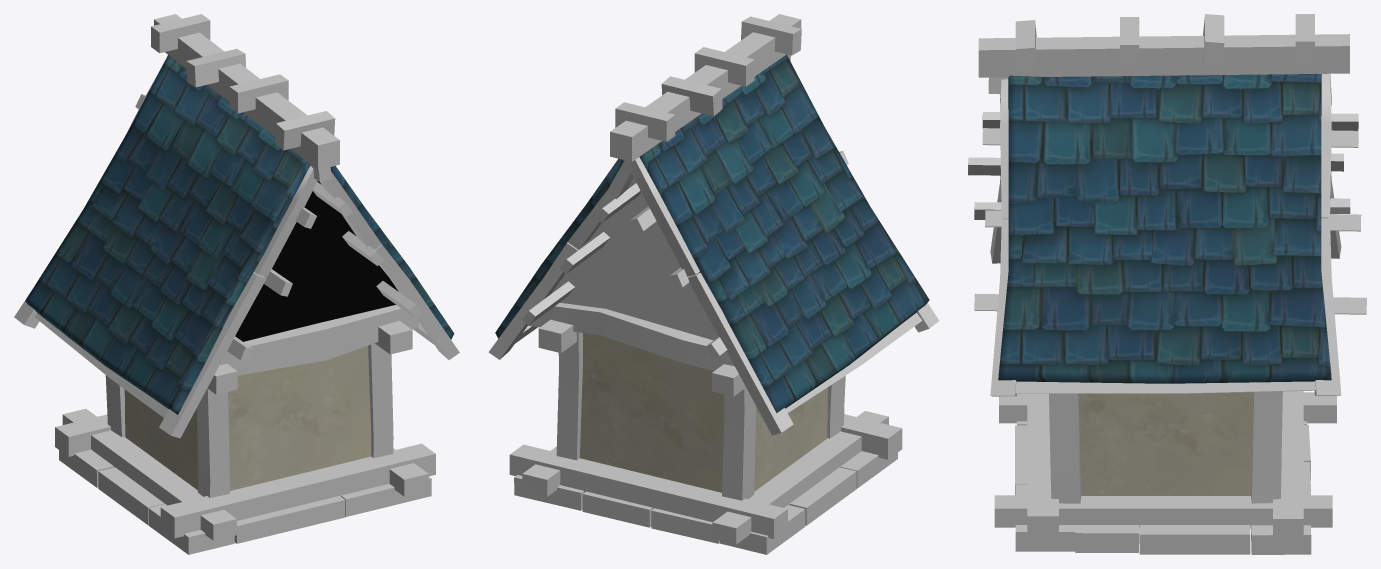
File: A_Tower_Top_A.fbx
The picture shows the model from 3 angles, left to right: view 1: azimuth 30°, elevation 25°; view 2: azimuth 150°, elevation 25°; view 3: azimuth 270°, elevation 25°; orthographic projection. The views are drawn at different scales.
Parts seen in each view (by area): view 1: A_Tower_Top_A_KiPart, A_Tower_Top_A_Tiles, A_Tower_Top_A; view 2: A_Tower_Top_A_KiPart, A_Tower_Top_A_Tiles, A_Tower_Top_A; view 3: A_Tower_Top_A_Tiles, A_Tower_Top_A_KiPart, A_Tower_Top_A.
Part boxes in pixels (left/top/right/bottom): A_Tower_Top_A_KiPart: left=14, top=14, right=459, bottom=554; A_Tower_Top_A_Tiles: left=25, top=55, right=454, bottom=414; A_Tower_Top_A: left=124, top=345, right=371, bottom=490; A_Tower_Top_A_KiPart: left=488, top=14, right=939, bottom=554; A_Tower_Top_A_Tiles: left=495, top=54, right=929, bottom=412; A_Tower_Top_A: left=579, top=333, right=827, bottom=492; A_Tower_Top_A_Tiles: left=998, top=74, right=1331, bottom=383; A_Tower_Top_A_KiPart: left=968, top=14, right=1366, bottom=554; A_Tower_Top_A: left=1078, top=392, right=1253, bottom=495.
Size of what is drawn, in the model's own units: 338 by 452 by 357.
